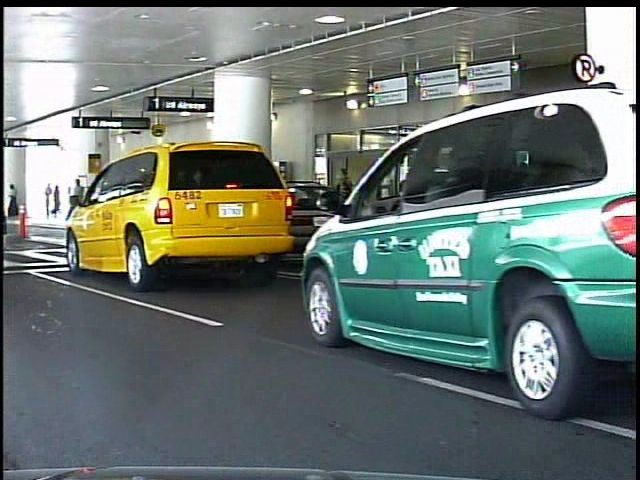person: (329, 166, 359, 255), (69, 177, 90, 231), (10, 183, 24, 218), (56, 183, 68, 222), (50, 182, 60, 222)
